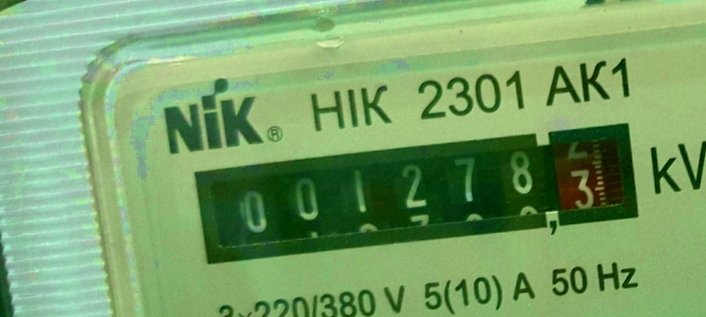0: (240, 185, 270, 235), (292, 174, 319, 222)
1: (351, 166, 369, 215)
2: (398, 161, 427, 208), (563, 139, 590, 161)
3: (567, 164, 595, 209)
7: (453, 154, 477, 203)
8: (507, 148, 534, 196)
screen: (173, 111, 656, 273)
